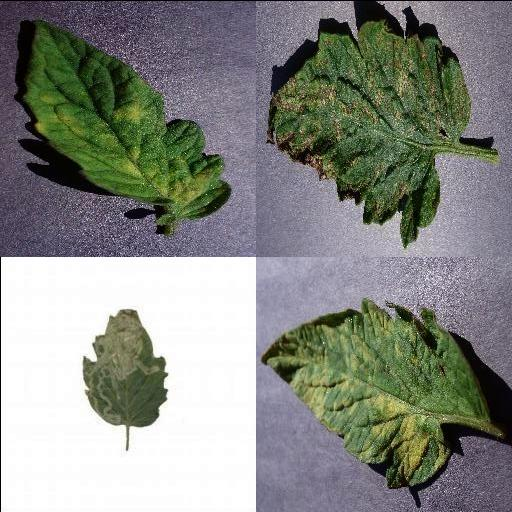Leaf Miner: (80, 307, 169, 427)
Leaf Mold: (256, 297, 492, 486), (21, 16, 231, 217)
Septoria: (266, 18, 472, 248)
